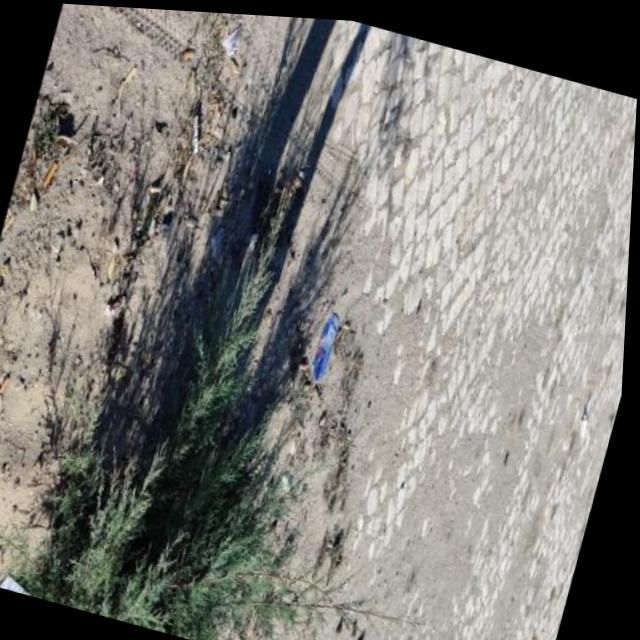metal: (307, 310, 340, 385)
